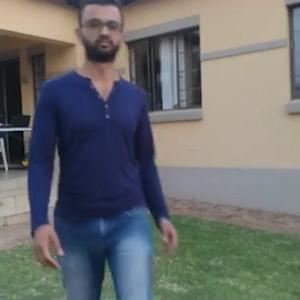follow: (27, 2, 176, 299)
